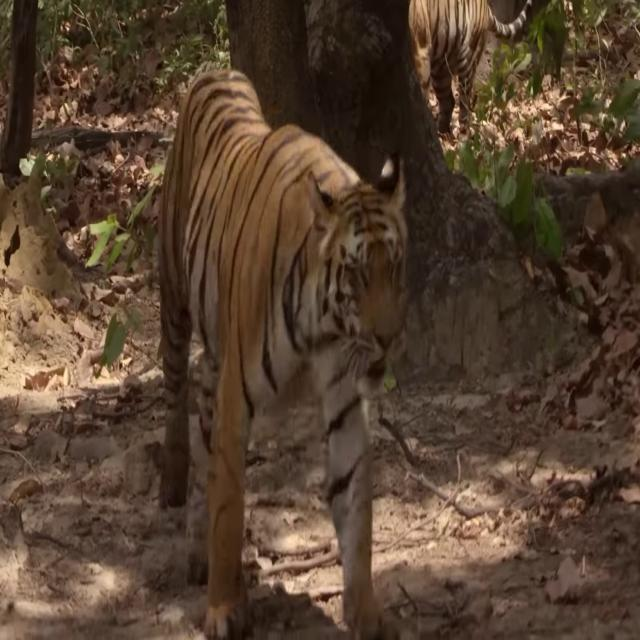tiger: (157, 66, 409, 640)
